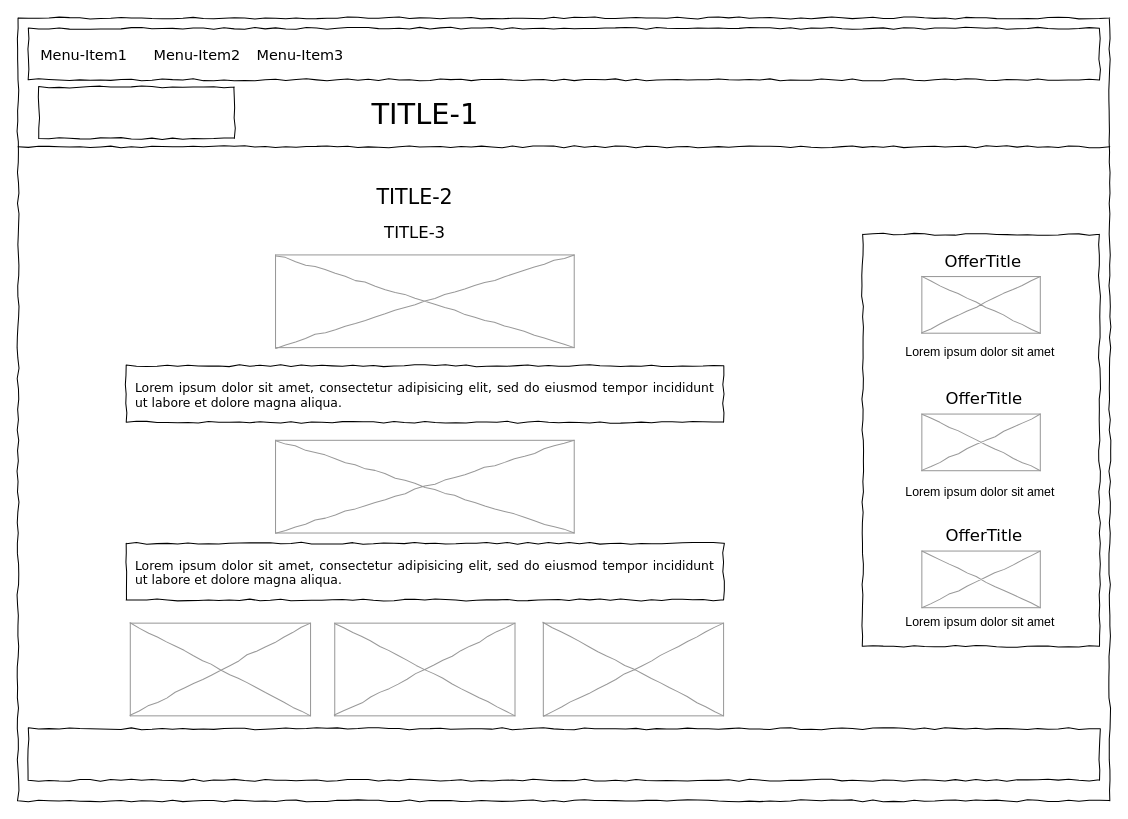
Image size: 1128x819. Some labels were removed from this diagram. The shapes that lost their labels are listed below. From the top down, each one's box as (x1, y1, x2, y2) in pixels, then its label:
(38, 86, 234, 139): LOGO
(27, 728, 1100, 780): Footer
